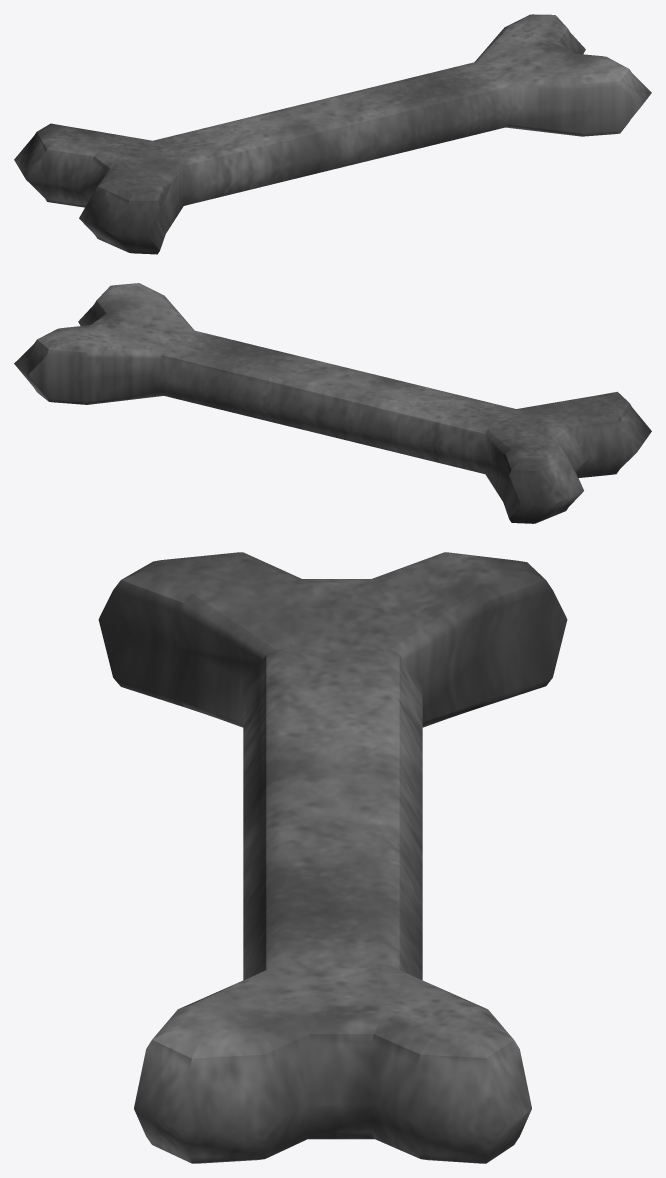
The model's file is Bone.fbx.
3 renders of one model, top to bottom at view 1: azimuth 30°, elevation 25°; view 2: azimuth 150°, elevation 25°; view 3: azimuth 270°, elevation 25°, orthographic. The views are drawn at different scales.
Parts seen in each view (by area): view 1: pCube3; view 2: pCube3; view 3: pCube3.
Part boxes in pixels (box(x1,y1,x2,y2)): pCube3: box(14, 14, 651, 254); pCube3: box(14, 283, 651, 523); pCube3: box(98, 552, 567, 1163).
Bounding box in the file's own units: 0.4309 × 0.0444 × 0.1568.
